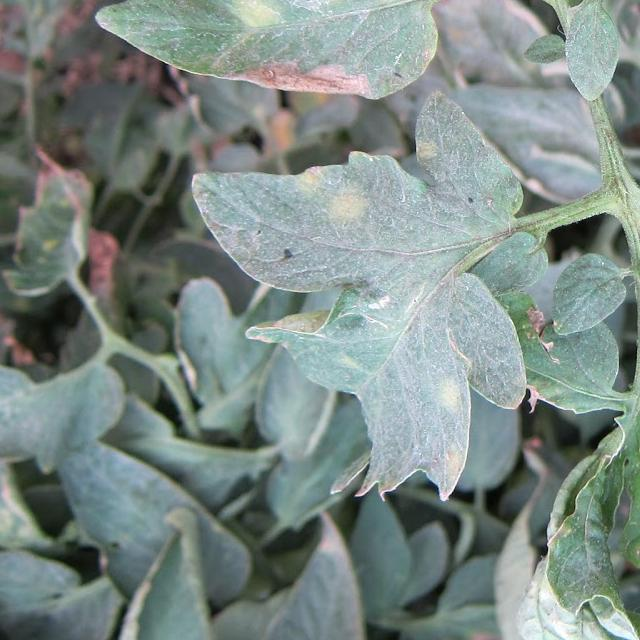Tomato mold leaf: (181, 109, 532, 515), (75, 0, 452, 141), (515, 420, 640, 640), (583, 0, 640, 10)
